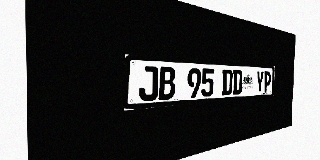5: (201, 68, 214, 97)
9: (187, 68, 201, 98)
B: (158, 66, 176, 100)
D: (222, 69, 233, 95), (232, 70, 242, 95)
J: (139, 66, 158, 102)
P: (263, 71, 271, 92)
Y: (255, 71, 264, 93)
